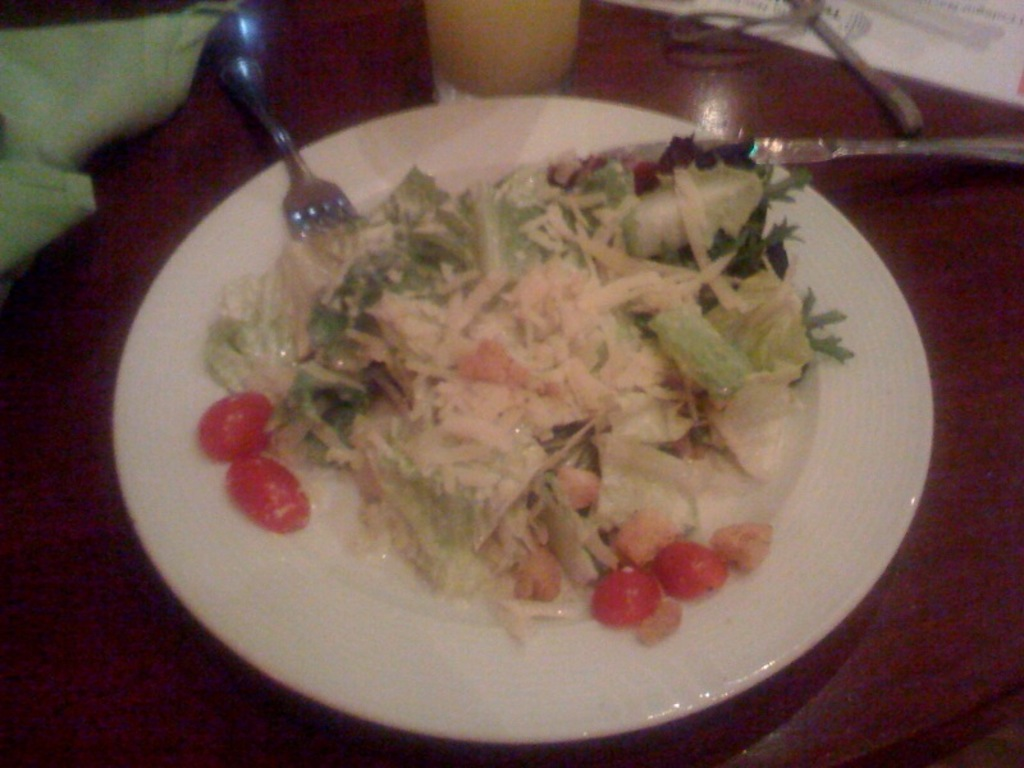plate: (65, 35, 968, 767)
